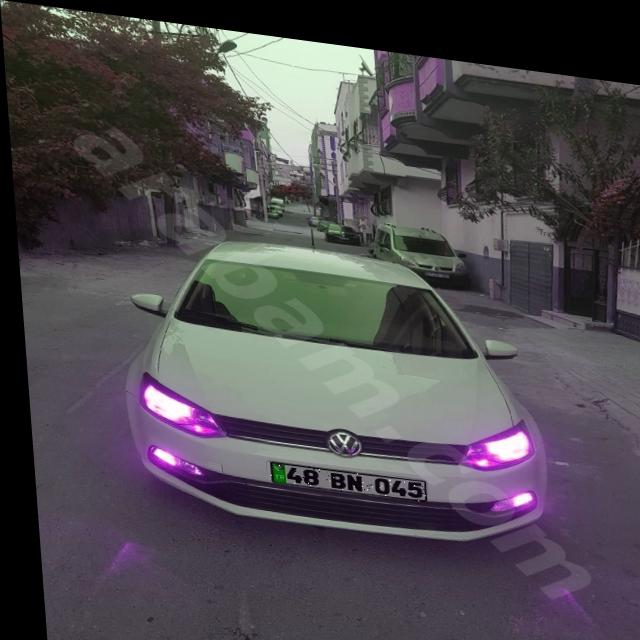license_plate: (263, 454, 421, 491)
